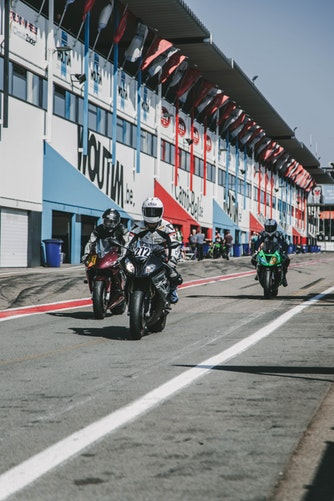helmet: (141, 199, 172, 221), (99, 209, 120, 227), (263, 220, 284, 231)
